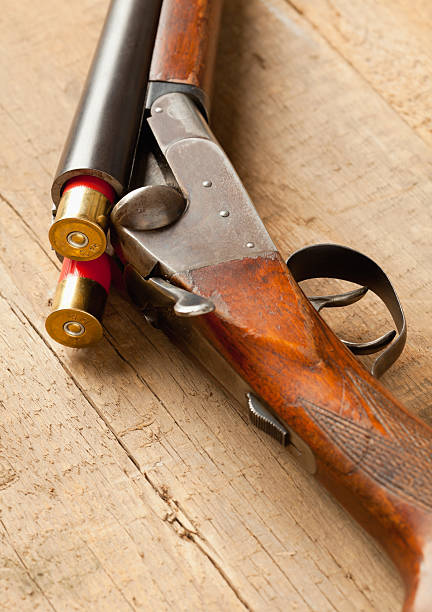shotgun: (47, 8, 430, 571)
